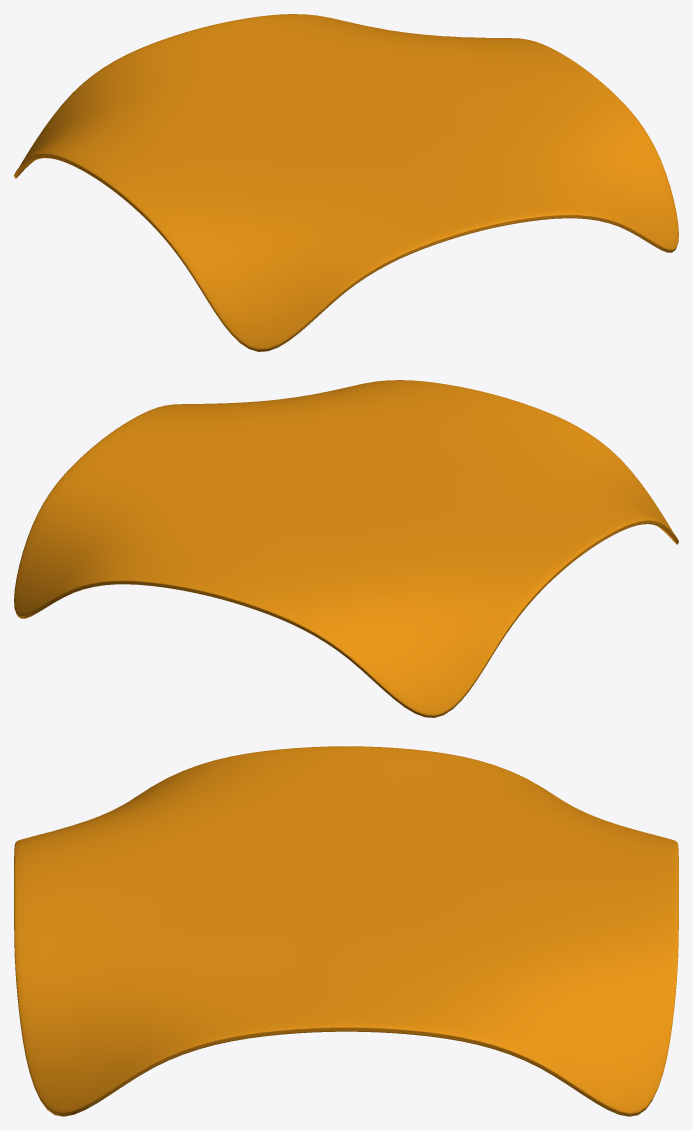
The model's file is Cheese.fbx.
3 renders of one model, top to bottom at view 1: azimuth 30°, elevation 25°; view 2: azimuth 150°, elevation 25°; view 3: azimuth 270°, elevation 25°, orthographic. The views are drawn at different scales.
Parts seen in each view (by area): view 1: Plane.003; view 2: Plane.003; view 3: Plane.003.
Boxes of the visible parts, x1,y1,x2,y2 form: Plane.003: (14, 14, 678, 351); Plane.003: (14, 380, 678, 717); Plane.003: (14, 746, 678, 1116).
Bounding box in the file's own units: 190 × 34.21 × 190.
